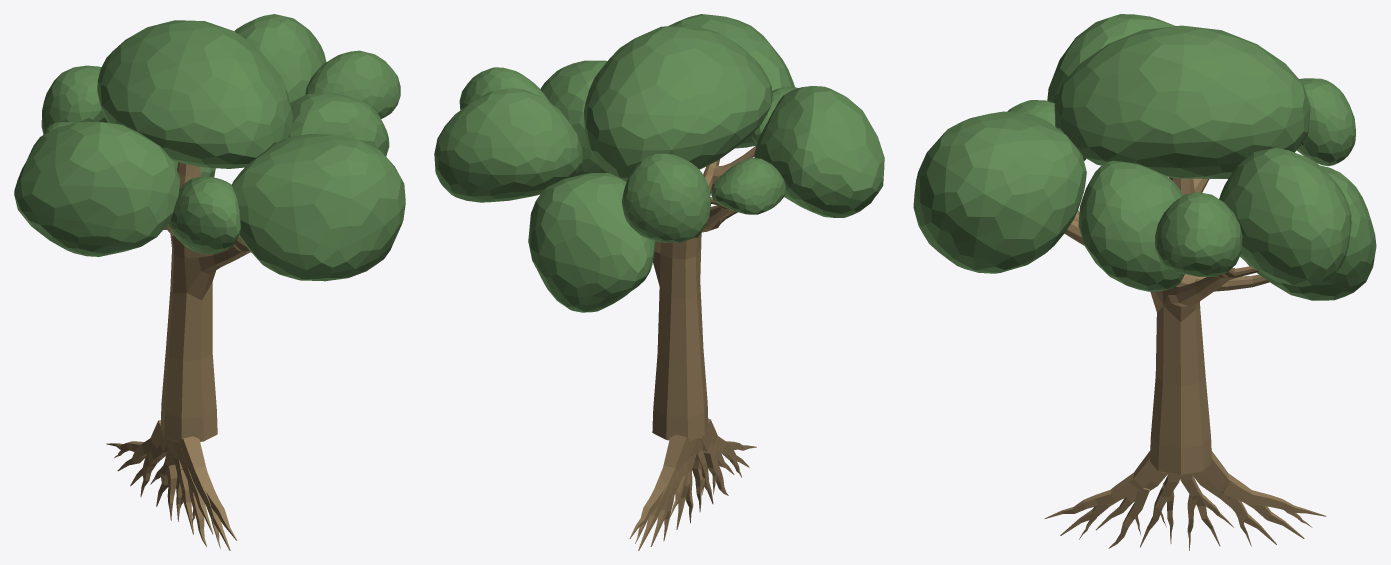
The model's file is tree_medium.glb.
3 views of the same model, side by side, from view 1: azimuth 30°, elevation 25°; view 2: azimuth 150°, elevation 25°; view 3: azimuth 270°, elevation 25° (orthographic). The views are drawn at different scales.
Parts seen in each view (by area): view 1: Icosphere.084, Icosphere.080, Leaves12, Trunk.004, Leaves14, Leaves17, Leaves16, Icosphere.082, Leaves15, Cube.078, Cube.079, Cube.075 (+2 smaller); view 2: Icosphere.084, Leaves17, Leaves13, Leaves12, Trunk.004, Leaves15, Icosphere.079, Leaves16, Icosphere.080, Icosphere.082, Cube.079, Cube.070 (+1 smaller); view 3: Icosphere.084, Icosphere.080, Leaves17, Trunk.004, Leaves16, Icosphere.082, Leaves13, Leaves15, Leaves12, Cube.079, Cube.070, Cube.078 (+6 smaller).
Boxes of the visible parts, bbox=[...] form: Icosphere.084: bbox=[97, 20, 293, 168]; Icosphere.080: bbox=[231, 134, 405, 281]; Leaves12: bbox=[14, 121, 180, 256]; Trunk.004: bbox=[160, 162, 250, 442]; Leaves14: bbox=[168, 176, 240, 253]; Leaves17: bbox=[234, 14, 326, 102]; Leaves16: bbox=[288, 92, 389, 156]; Icosphere.082: bbox=[305, 50, 400, 118]; Leaves15: bbox=[41, 65, 107, 133]; Cube.078: bbox=[180, 436, 230, 550]; Cube.079: bbox=[117, 420, 164, 471]; Cube.075: bbox=[170, 439, 193, 534]; Icosphere.084: bbox=[584, 24, 772, 181]; Leaves17: bbox=[434, 88, 582, 202]; Leaves13: bbox=[528, 173, 655, 312]; Leaves12: bbox=[754, 86, 884, 217]; Trunk.004: bbox=[652, 159, 730, 440]; Leaves15: bbox=[622, 153, 710, 242]; Icosphere.079: bbox=[711, 158, 786, 214]; Leaves16: bbox=[540, 60, 608, 176]; Icosphere.080: bbox=[669, 14, 794, 148]; Icosphere.082: bbox=[459, 67, 549, 109]; Cube.079: bbox=[638, 435, 693, 550]; Cube.070: bbox=[629, 470, 666, 538]; Icosphere.084: bbox=[1054, 25, 1310, 178]; Icosphere.080: bbox=[913, 111, 1086, 273]; Leaves17: bbox=[1219, 148, 1351, 287]; Trunk.004: bbox=[1064, 177, 1234, 474]; Leaves16: bbox=[1078, 160, 1184, 291]; Icosphere.082: bbox=[1155, 192, 1242, 276]; Leaves13: bbox=[1246, 165, 1376, 300]; Leaves15: bbox=[1296, 78, 1355, 166]; Leaves12: bbox=[1047, 14, 1175, 103]; Cube.079: bbox=[1201, 451, 1304, 538]; Cube.070: bbox=[1222, 482, 1326, 516]; Cube.078: bbox=[1060, 450, 1160, 535].
Bounding box in the file's own units: 15.72 × 18.43 × 14.63.
